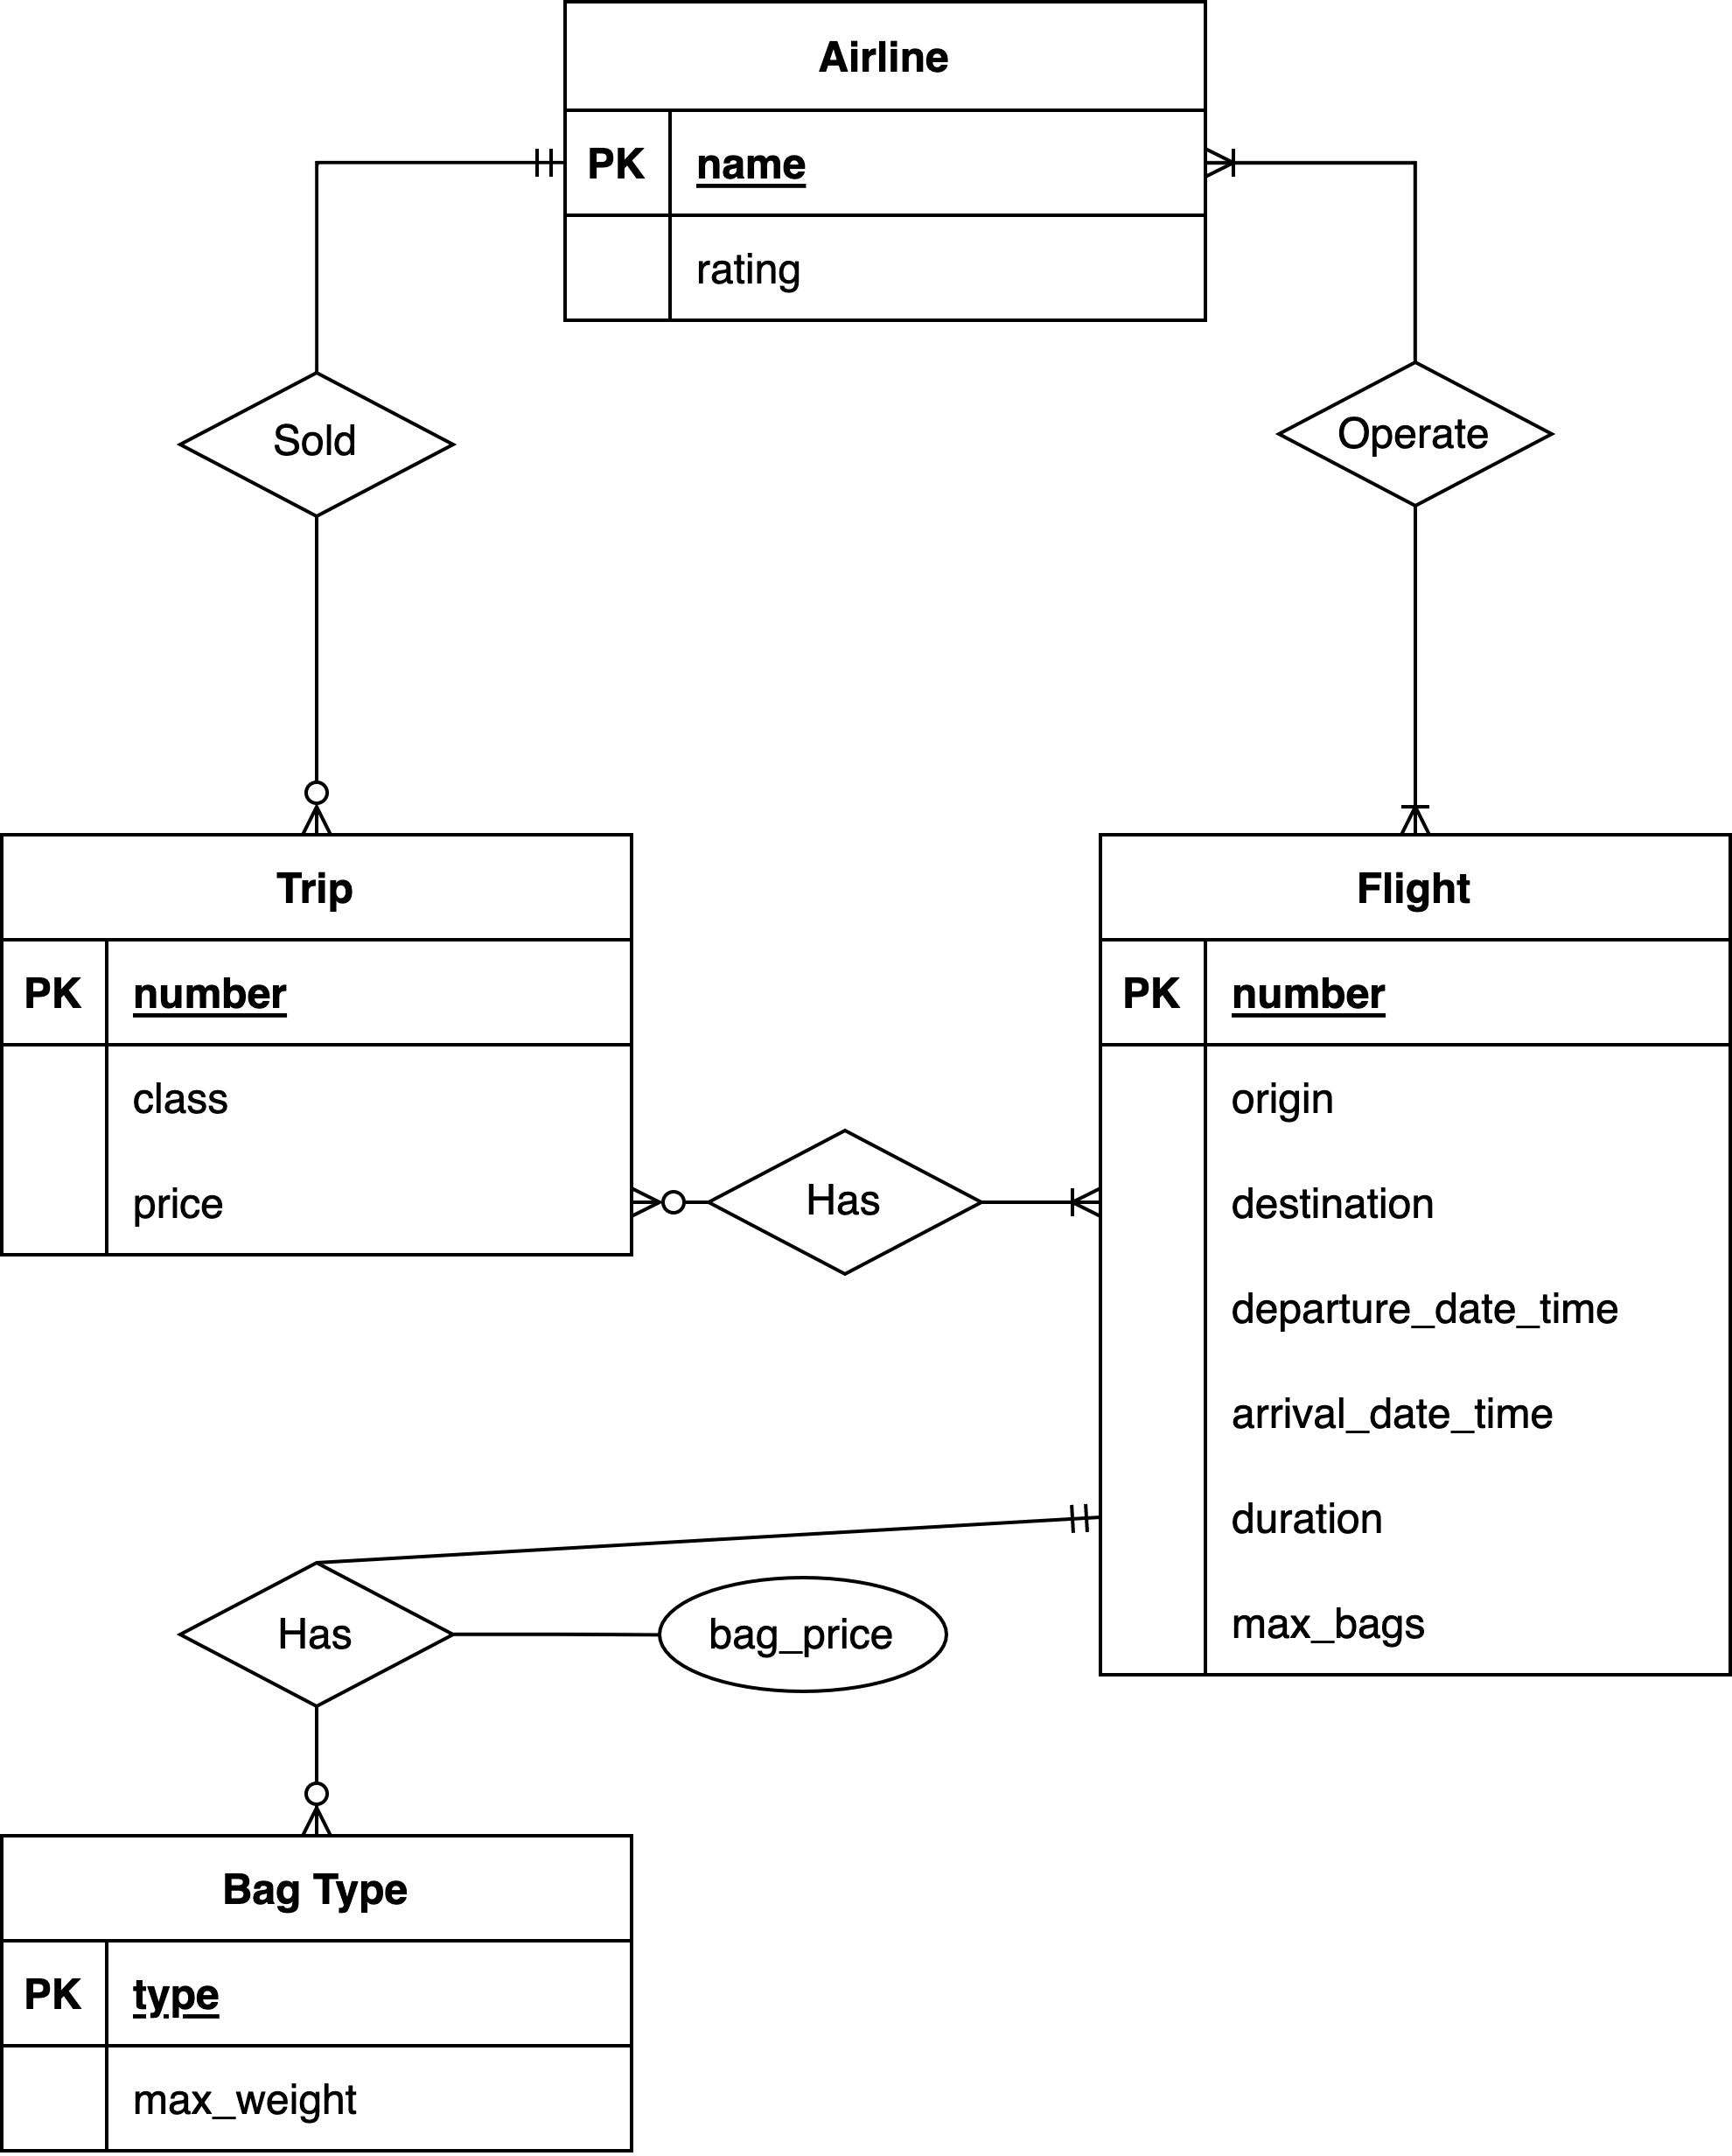attribute: (656, 1576, 951, 1697)
entity: (1092, 831, 1732, 1681), (0, 829, 642, 1264), (557, 0, 1212, 329), (0, 1827, 634, 2156)
relationship: (164, 1560, 451, 1707), (712, 1124, 984, 1278), (1280, 366, 1562, 507), (175, 382, 456, 512)
